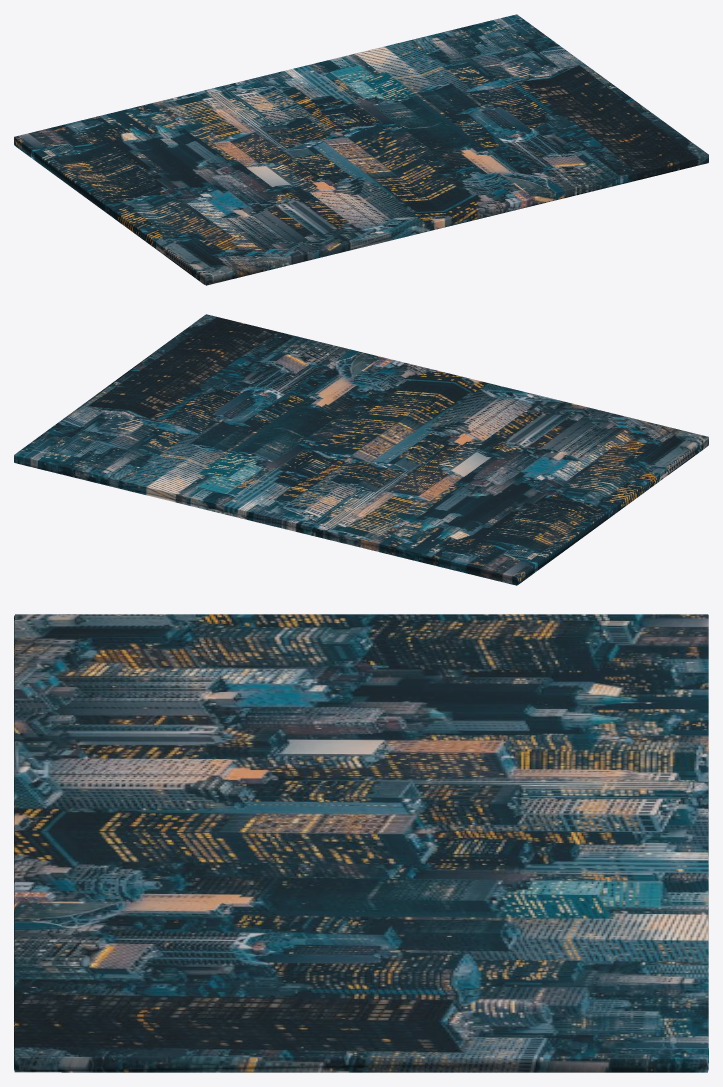
3 views of the same model, one above another, from view 1: azimuth 30°, elevation 25°; view 2: azimuth 150°, elevation 25°; view 3: azimuth 270°, elevation 25° (orthographic). The views are drawn at different scales.
Parts seen in each view (by area): view 1: ASY_ART_40623469_S01_NV01; view 2: ASY_ART_40623469_S01_NV01; view 3: ASY_ART_40623469_S01_NV01.
Part boxes in pixels (x1=…): ASY_ART_40623469_S01_NV01: x1=14, y1=14, x2=708, y2=285; ASY_ART_40623469_S01_NV01: x1=14, y1=314, x2=708, y2=585; ASY_ART_40623469_S01_NV01: x1=14, y1=614, x2=708, y2=1072.
Size of the model in its own units: 1.18 by 0.0194 by 0.7835.
1 material, 1 textured.
